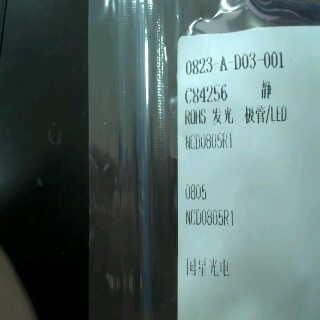LED: (209, 101, 287, 125)
